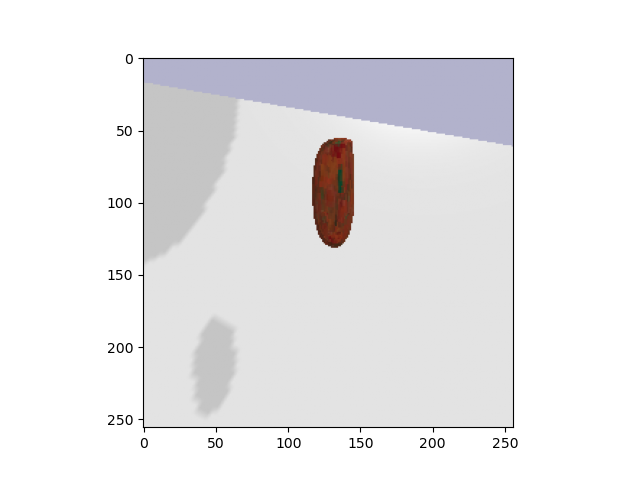v249b387_106: (299, 131, 367, 257)
